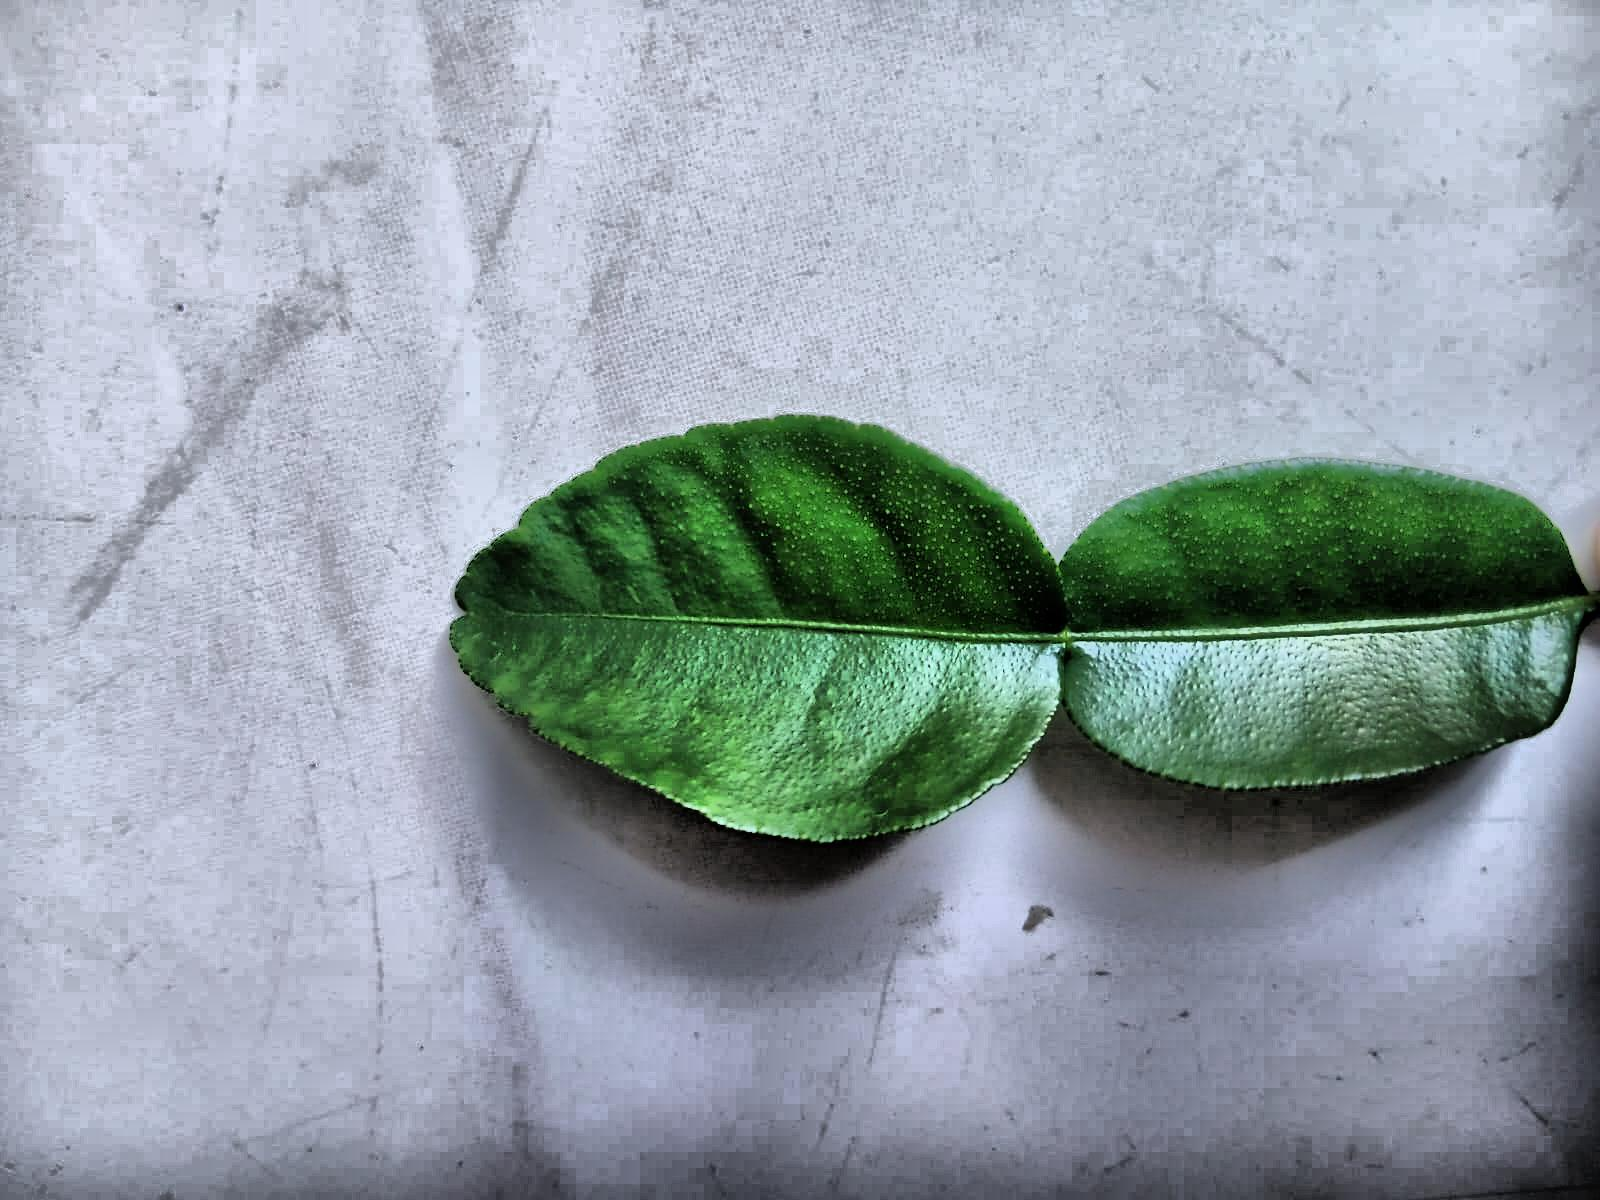daun jeruk: (450, 415, 1599, 841), (758, 562, 797, 590)
